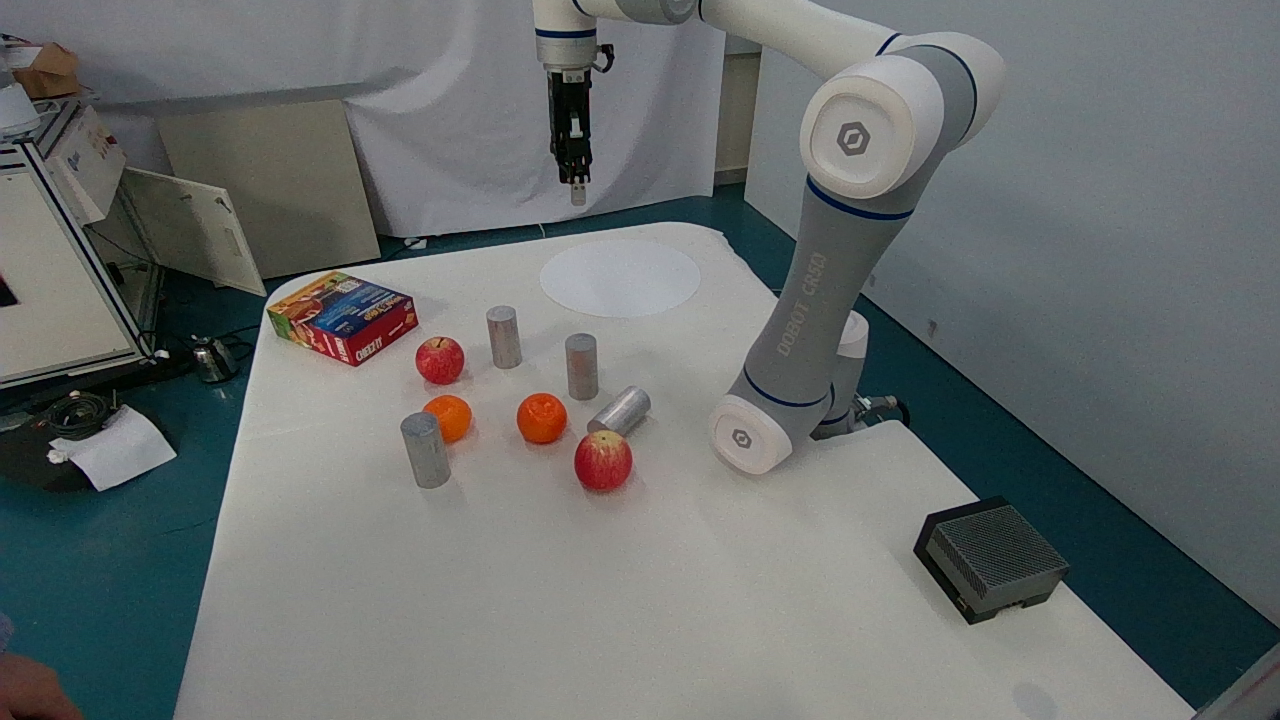apple: (408, 387, 488, 451), (510, 388, 574, 462)
metal rod: (563, 418, 643, 503), (396, 316, 477, 381)
orange: (374, 406, 451, 501), (467, 291, 534, 382), (578, 377, 671, 439), (547, 322, 610, 403)
